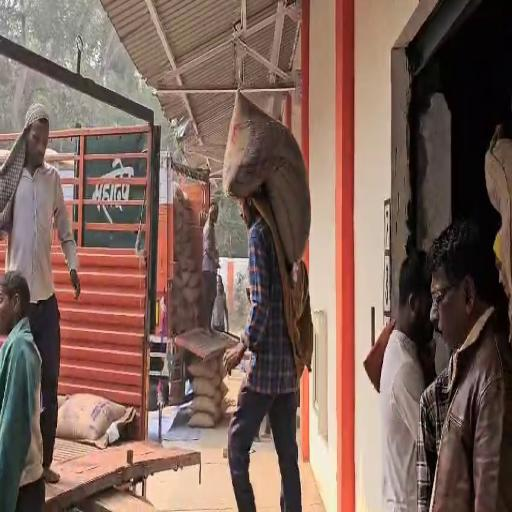bag: (220, 83, 314, 273)
